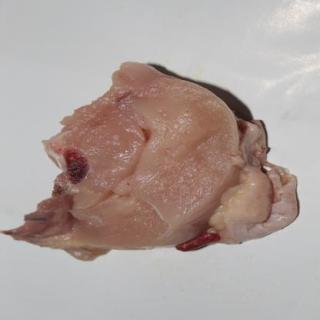Ayam: (12, 67, 300, 250)
